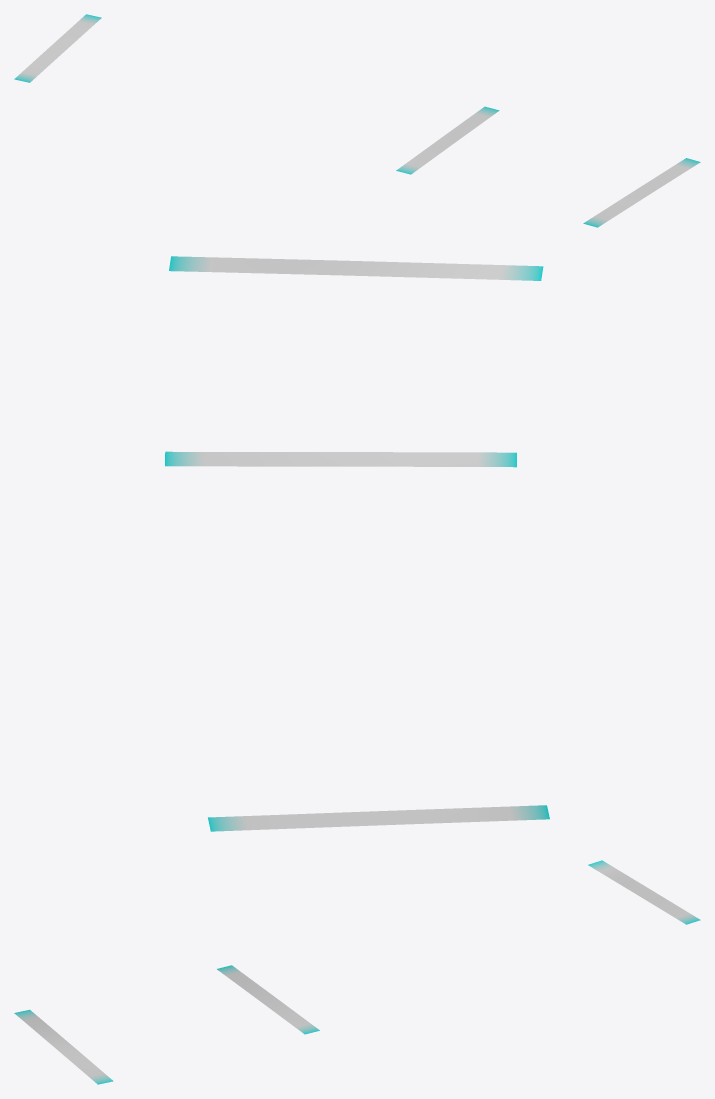
The picture shows the model from 3 angles, top to bottom: view 1: azimuth 30°, elevation 25°; view 2: azimuth 150°, elevation 25°; view 3: azimuth 270°, elevation 25°; orthographic projection. The views are drawn at different scales.
Parts seen in each view (by area): view 1: SpaceCenter_Long3_GenerateRoad_Asphalt_PCGMesh_Decal_Mesh_x8; view 2: SpaceCenter_Long3_GenerateRoad_Asphalt_PCGMesh_Decal_Mesh_x8; view 3: SpaceCenter_Long3_GenerateRoad_Asphalt_PCGMesh_Decal_Mesh_x8.
Boxes of the visible parts, box(x1,y1,x2,y2) form: SpaceCenter_Long3_GenerateRoad_Asphalt_PCGMesh_Decal_Mesh_x8: box(14, 14, 700, 227); SpaceCenter_Long3_GenerateRoad_Asphalt_PCGMesh_Decal_Mesh_x8: box(165, 256, 549, 831); SpaceCenter_Long3_GenerateRoad_Asphalt_PCGMesh_Decal_Mesh_x8: box(14, 860, 700, 1084).
Bounding box in the file's own units: 1386 × 1035 × 17.11.
